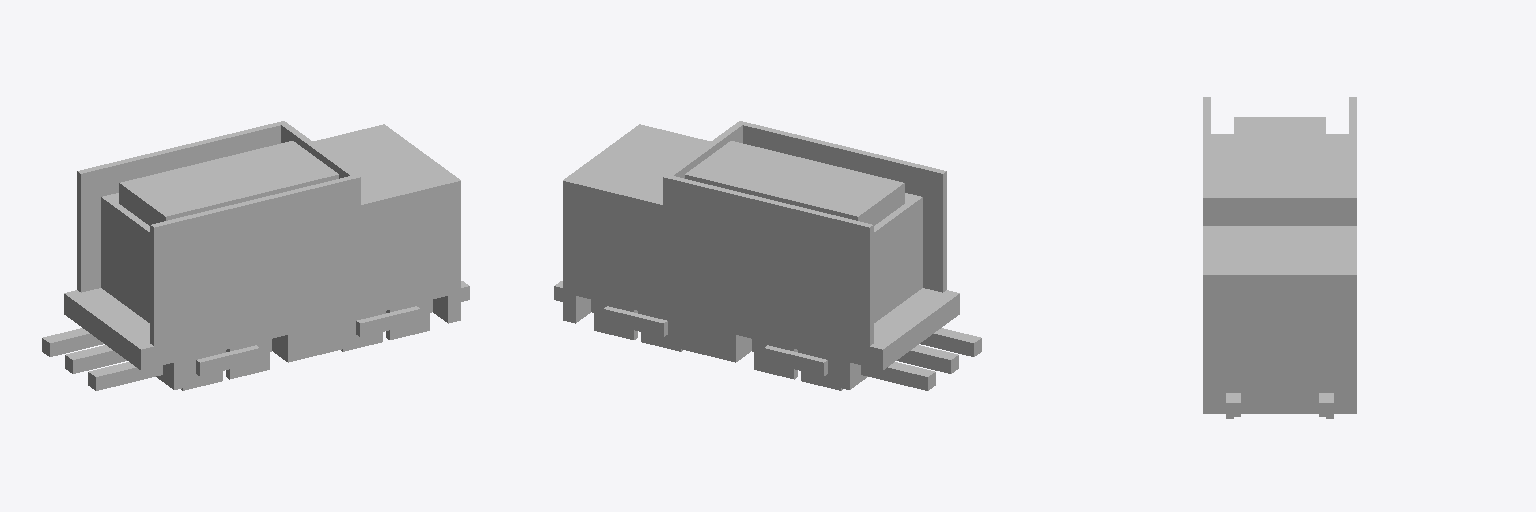
The model's file is ModelTenderHeavy.obj.
3 renders of one model, left to right at view 1: azimuth 30°, elevation 25°; view 2: azimuth 150°, elevation 25°; view 3: azimuth 270°, elevation 25°, orthographic.
Parts seen in each view (by area): view 1: box, box12, box11, box10, box24, box27, box26, box9, box23, box18, box17, box22 (+8 smaller); view 2: box, box12, box10, box11, box24, box26, box27, box9, box22, box16, box19, box25 (+8 smaller); view 3: box, box12, box8, box14, box10, box11.
Boxes of the visible parts, <box> form: box: <box>101,124,460,361</box>; box12: <box>119,141,338,225</box>; box11: <box>150,174,360,254</box>; box10: <box>77,121,287,201</box>; box24: <box>64,288,173,369</box>; box27: <box>150,251,173,352</box>; box26: <box>77,197,100,292</box>; box9: <box>272,320,347,362</box>; box23: <box>88,362,162,390</box>; box18: <box>356,306,419,336</box>; box17: <box>196,345,259,376</box>; box22: <box>42,328,103,356</box>; box: <box>563,124,922,361</box>; box12: <box>685,141,904,225</box>; box10: <box>663,174,873,254</box>; box11: <box>736,121,946,201</box>; box24: <box>850,288,959,369</box>; box26: <box>850,251,873,352</box>; box27: <box>923,197,946,292</box>; box9: <box>676,320,751,362</box>; box22: <box>861,362,935,390</box>; box16: <box>764,345,827,376</box>; box19: <box>604,306,667,336</box>; box25: <box>897,345,958,373</box>; box: <box>1203,134,1356,385</box>; box12: <box>1234,117,1325,193</box>; box8: <box>1211,194,1348,225</box>; box14: <box>1203,386,1356,413</box>; box10: <box>1349,97,1356,225</box>; box11: <box>1203,97,1210,225</box>.
Bounding box in the file's own units: 3.5 × 1.62 × 1.25.